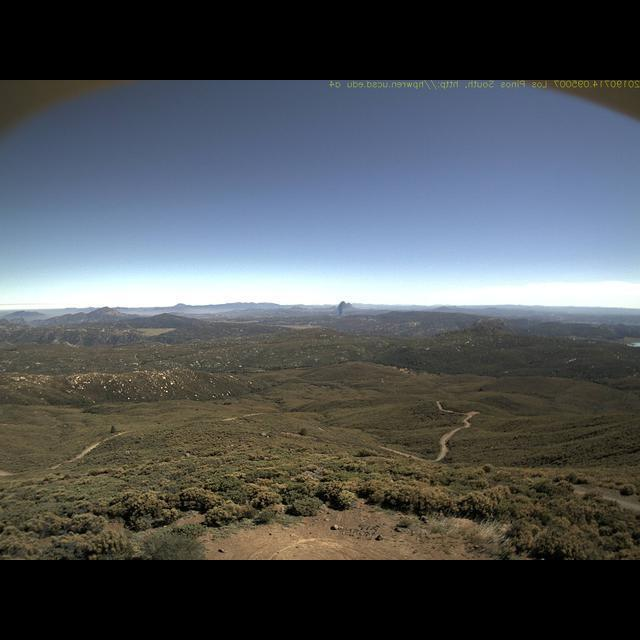Smoke: (333, 297, 355, 319)
